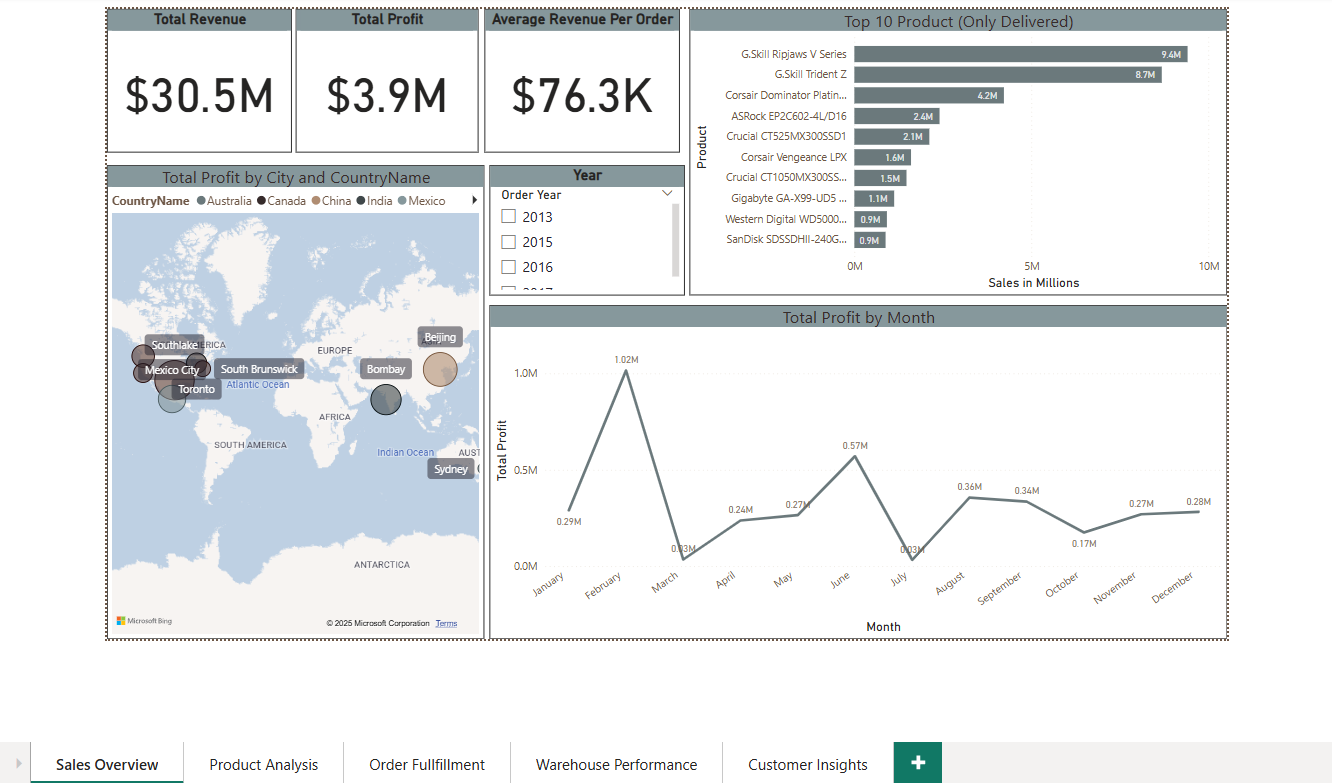

The dashboard page shown, as its layout file describes it:
{"tool":"powerbi","page":{"name":"Sales Overview","canvas":[1280,720],"ordinal":0},"visuals":[{"type":"card","title":"Total Revenue","fields":{"Values":["ML-Dataset.Total Revenue"]},"box":[0,0,211.4,164.3],"z":0},{"type":"card","title":"Total Profit","fields":{"Values":["ML-Dataset.Total Profit"]},"box":[215.7,0,208.6,164.3],"z":1000},{"type":"map","fields":{"Category":["ML-Dataset.City"],"Size":["ML-Dataset.Total Profit"],"Series":["ML-Dataset.CountryName"]},"box":[0,178.6,431.4,541.4],"z":2000},{"type":"lineChart","fields":{"Category":["ML-Dataset.OrderDate.Variation.Date Hierarchy.Month"],"Y":["ML-Dataset.Total Profit"]},"box":[437.1,338.6,842.9,381.4],"z":3000},{"type":"clusteredBarChart","title":"Top 10 Product (Only Delivered)","fields":{"Category":["ML-Dataset.ProductName"],"Y":["ML-Dataset.Total Sales (Exclude Pending)"]},"box":[665.7,0,614.3,327.1],"z":4000},{"type":"card","title":"Average Revenue Per Order","fields":{"Values":["ML-Dataset.Average Revenue per Order"]},"box":[431.4,0,222.9,164.3],"z":5000},{"type":"slicer","title":"Year","fields":{"Values":["ML-Dataset.Order Year"]},"box":[437.1,178.6,222.9,148.6],"z":6000}]}

Visuals, with their boxes on the page's 1280x720 design canvas (x1, y1, x2, y2). These are canvas units, not pixel positions in the 1332x783 screenshot, which may show the page scaled, cropped or inside an application window:
"Total Revenue" card: bbox(0, 0, 211, 164)
"Total Profit" card: bbox(216, 0, 424, 164)
map - ML-Dataset.City x ML-Dataset.Total Profit: bbox(0, 179, 431, 720)
lineChart - ML-Dataset.OrderDate.Variation.Date Hierarchy.Month x ML-Dataset.Total Profit: bbox(437, 339, 1280, 720)
"Top 10 Product (Only Delivered)" clusteredBarChart: bbox(666, 0, 1280, 327)
"Average Revenue Per Order" card: bbox(431, 0, 654, 164)
"Year" slicer: bbox(437, 179, 660, 327)
